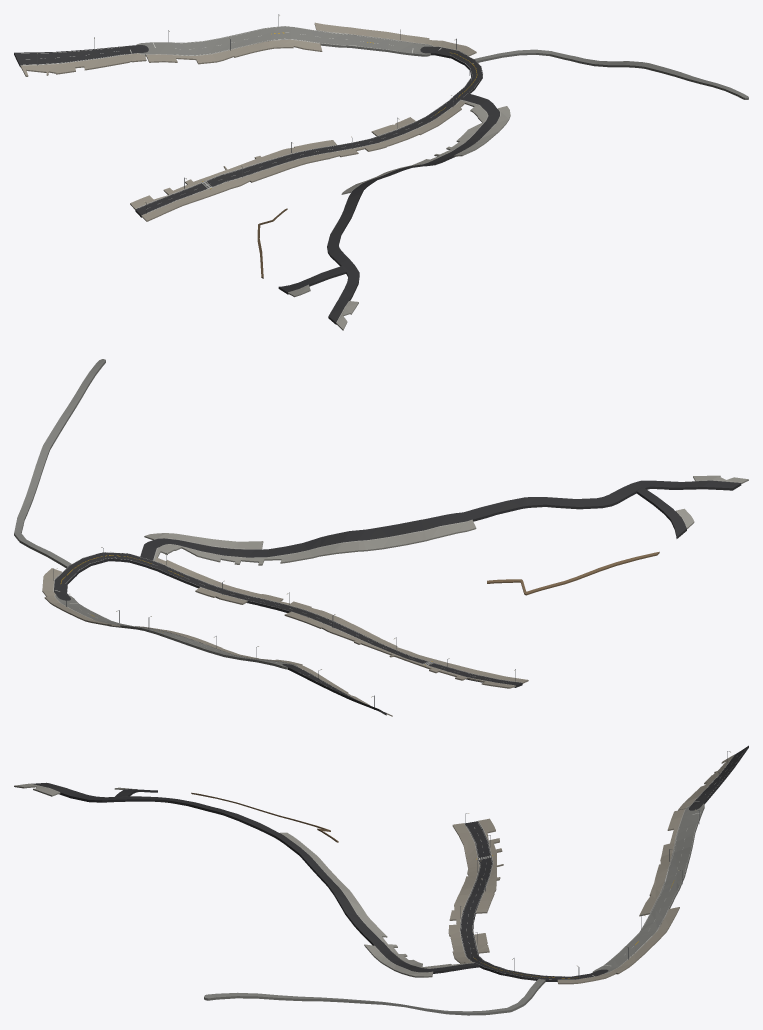
File: 16-54706-29745.69e7dfb3.glb
3 views of the same model, one above another, from view 1: azimuth 30°, elevation 25°; view 2: azimuth 150°, elevation 25°; view 3: azimuth 270°, elevation 25° (orthographic). The views are drawn at different scales.
Size of the model in its own units: 304 by 51 by 352.
